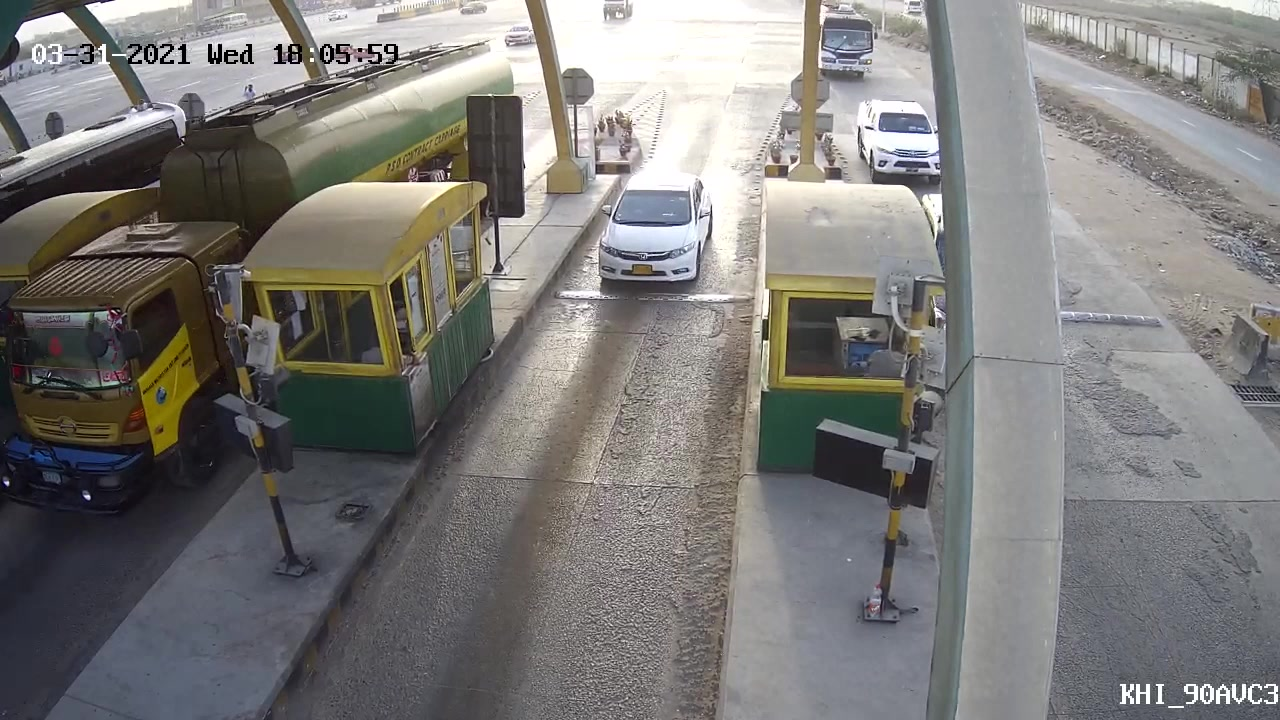F1: (584, 173, 731, 290)
